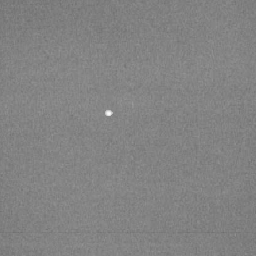Target: (103, 109, 114, 118)
